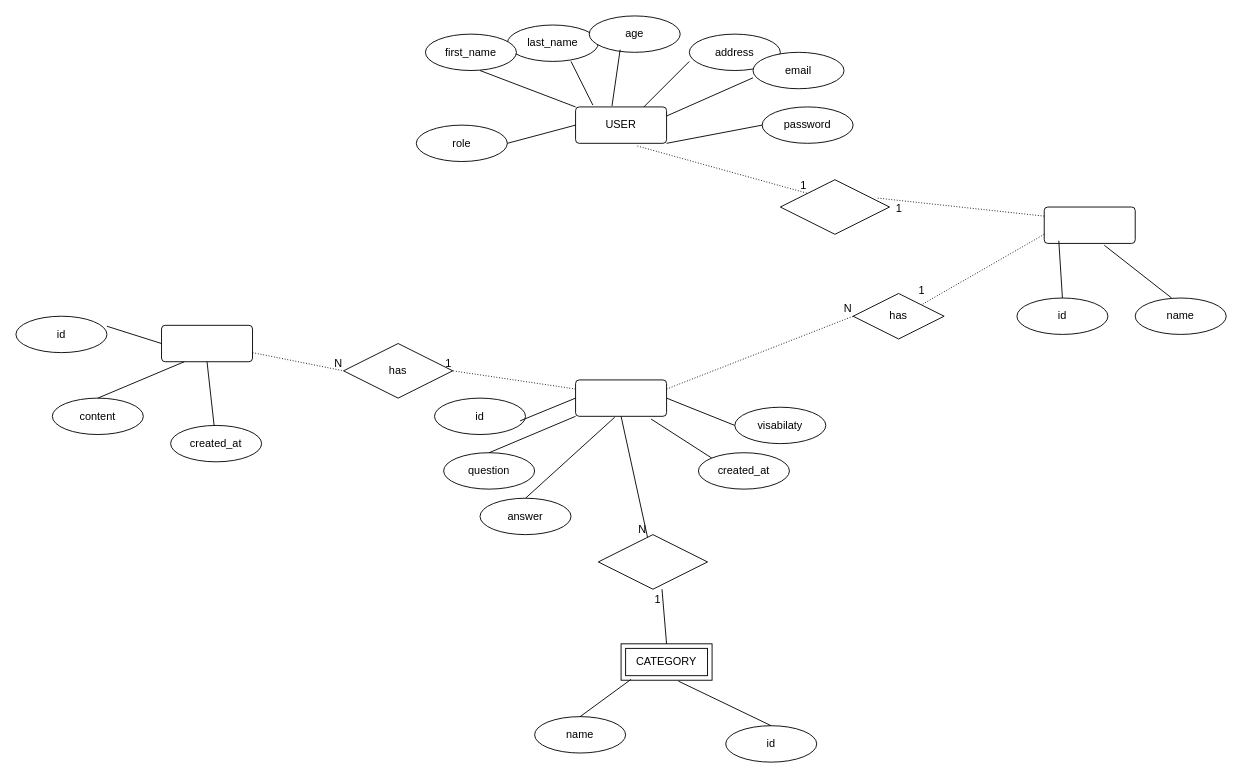
Image size: 1242x778. Some labels were removed from this diagram. The shapes that lost their labels are listed below. From the top down, each one's box as (x1, y1, x2, y2) in pixels, then its label:
(779, 179, 890, 234): own
(1043, 206, 1135, 243): STORE
(161, 324, 253, 362): TRANSLATION
(575, 379, 667, 416): FAQ
(597, 534, 708, 589): under
